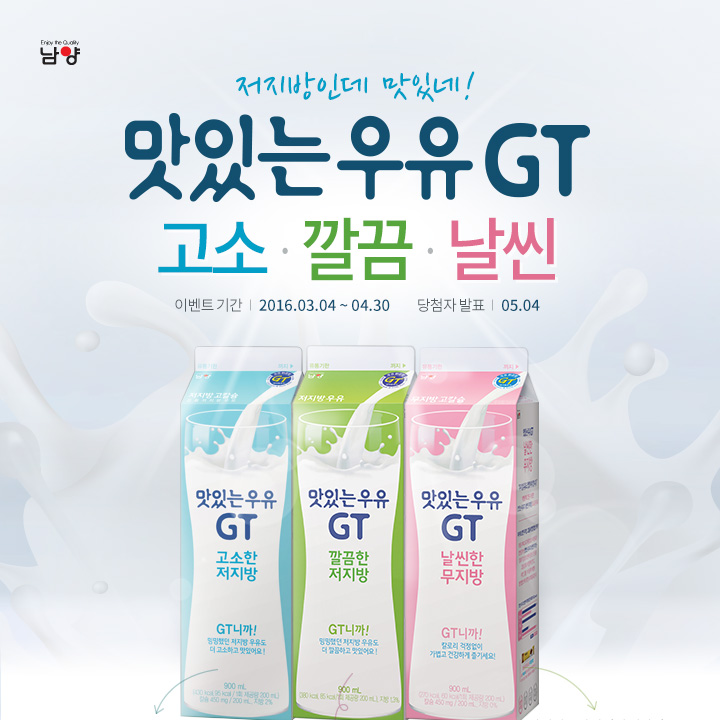milk: (179, 343, 541, 720)
